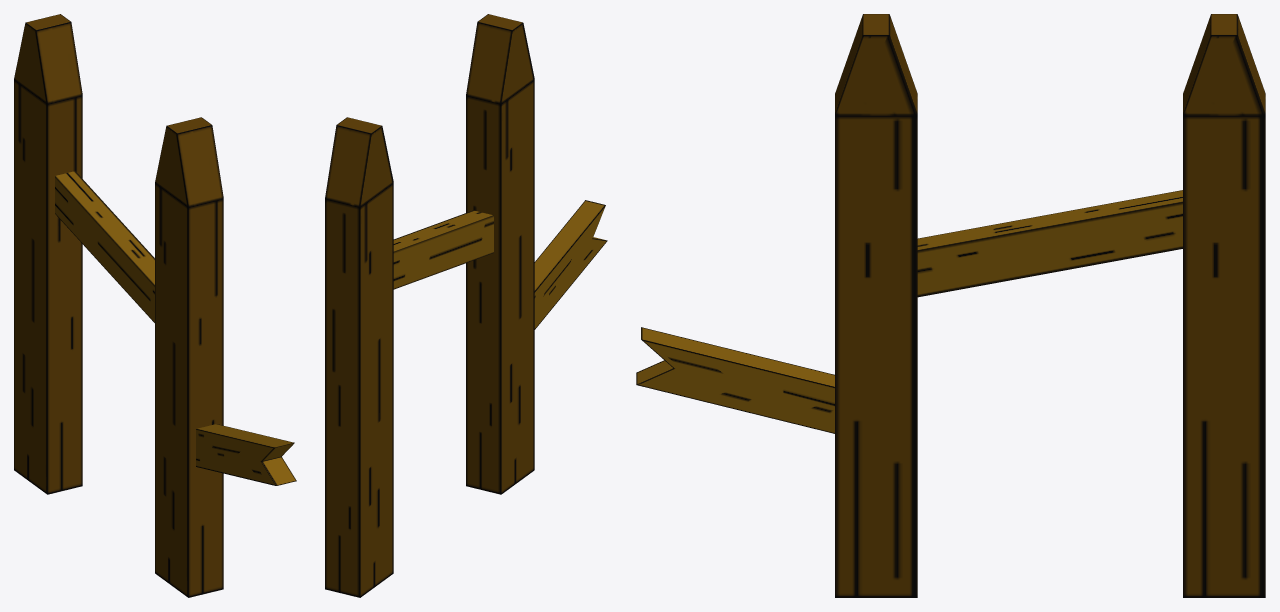
The model's file is Fence2_3_Part.glb.
3 renders of one model, left to right at view 1: azimuth 30°, elevation 25°; view 2: azimuth 150°, elevation 25°; view 3: azimuth 270°, elevation 25°, orthographic. The views are drawn at different scales.
Parts seen in each view (by area): view 1: Fence2_3_Part; view 2: Fence2_3_Part; view 3: Fence2_3_Part.
Part boxes in pixels (x1,y1,x2,y2): Fence2_3_Part: (14, 14, 296, 597); Fence2_3_Part: (325, 14, 607, 597); Fence2_3_Part: (636, 14, 1265, 597).
Bounding box in the file's own units: 0.1443 × 1.78 × 1.81.
Materials: 1 (1 with a texture image).
